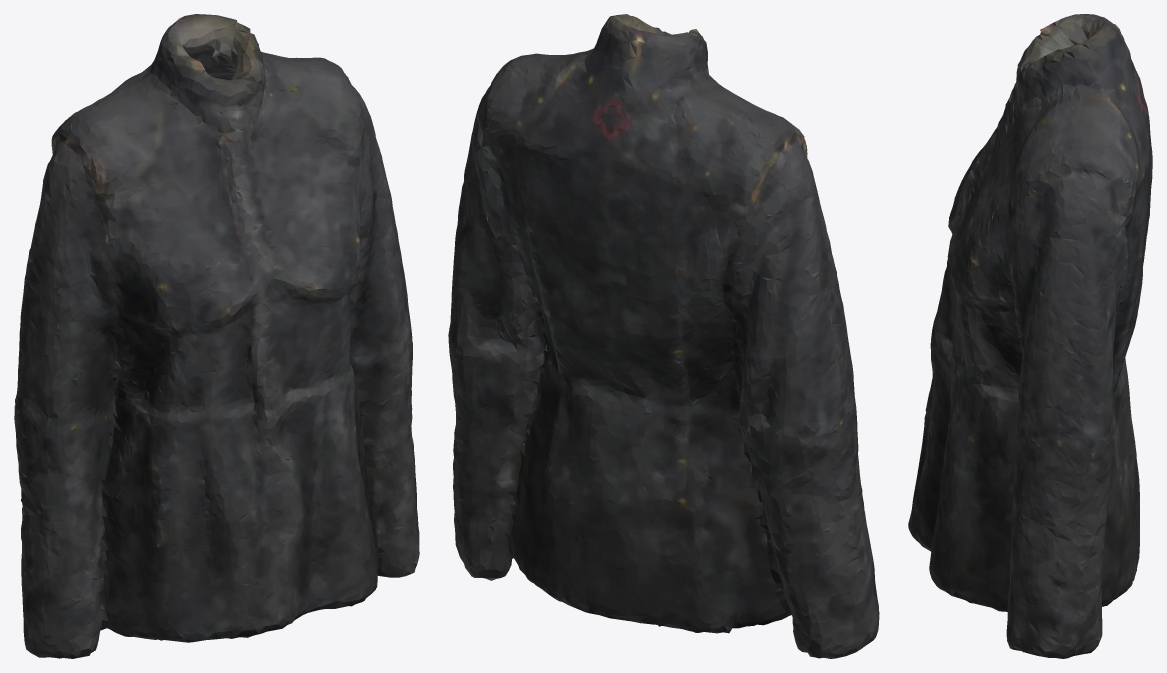
3 views of the same model, side by side, from view 1: azimuth 30°, elevation 25°; view 2: azimuth 150°, elevation 25°; view 3: azimuth 270°, elevation 25° (orthographic). The views are drawn at different scales.
Visible parts, largest first — view 1: geometry_0; view 2: geometry_0; view 3: geometry_0.
Boxes of the visible parts, bbox=[...] form: geometry_0: bbox=[14, 14, 419, 658]; geometry_0: bbox=[448, 14, 879, 658]; geometry_0: bbox=[908, 14, 1152, 658].
Bounding box in the file's own units: 0.7114 × 1 × 0.3985.
Materials: 1 (1 with a texture image).
